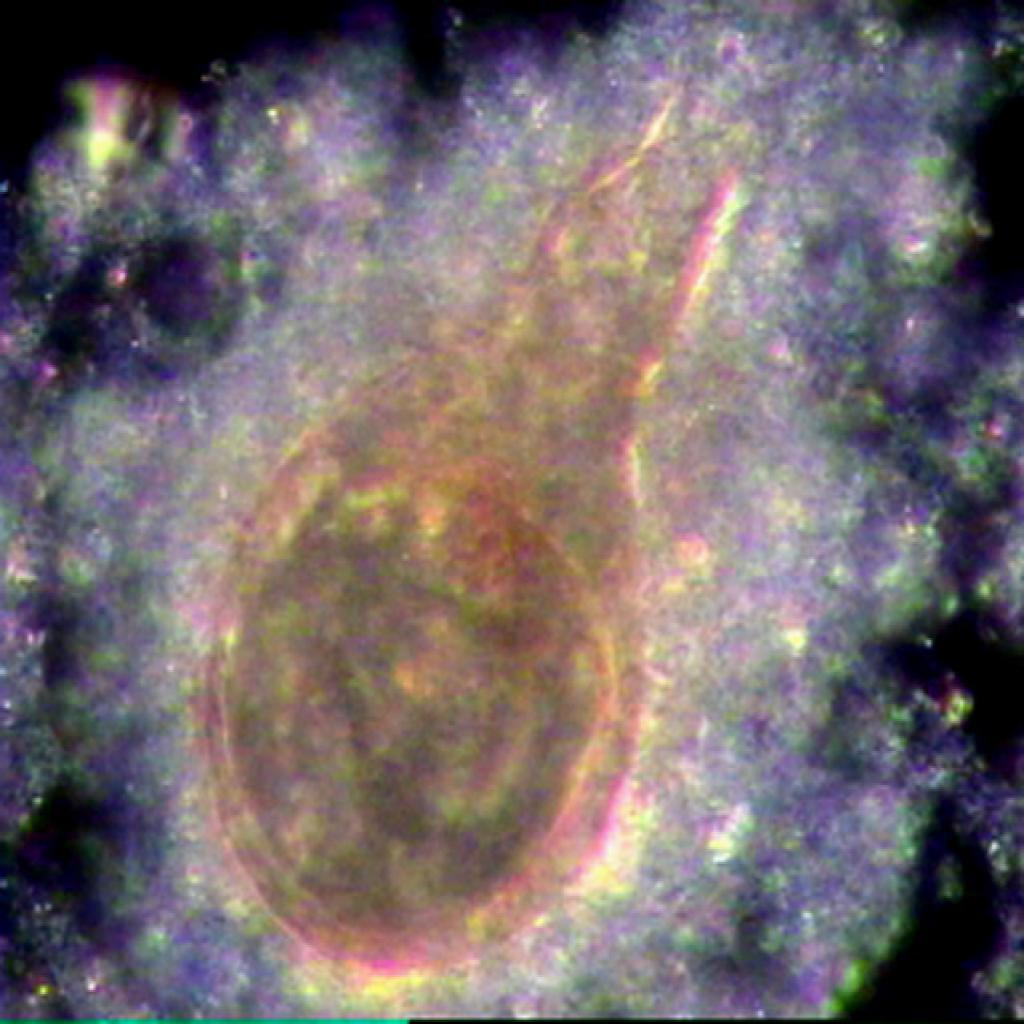Chaetopira: (173, 88, 761, 989)
